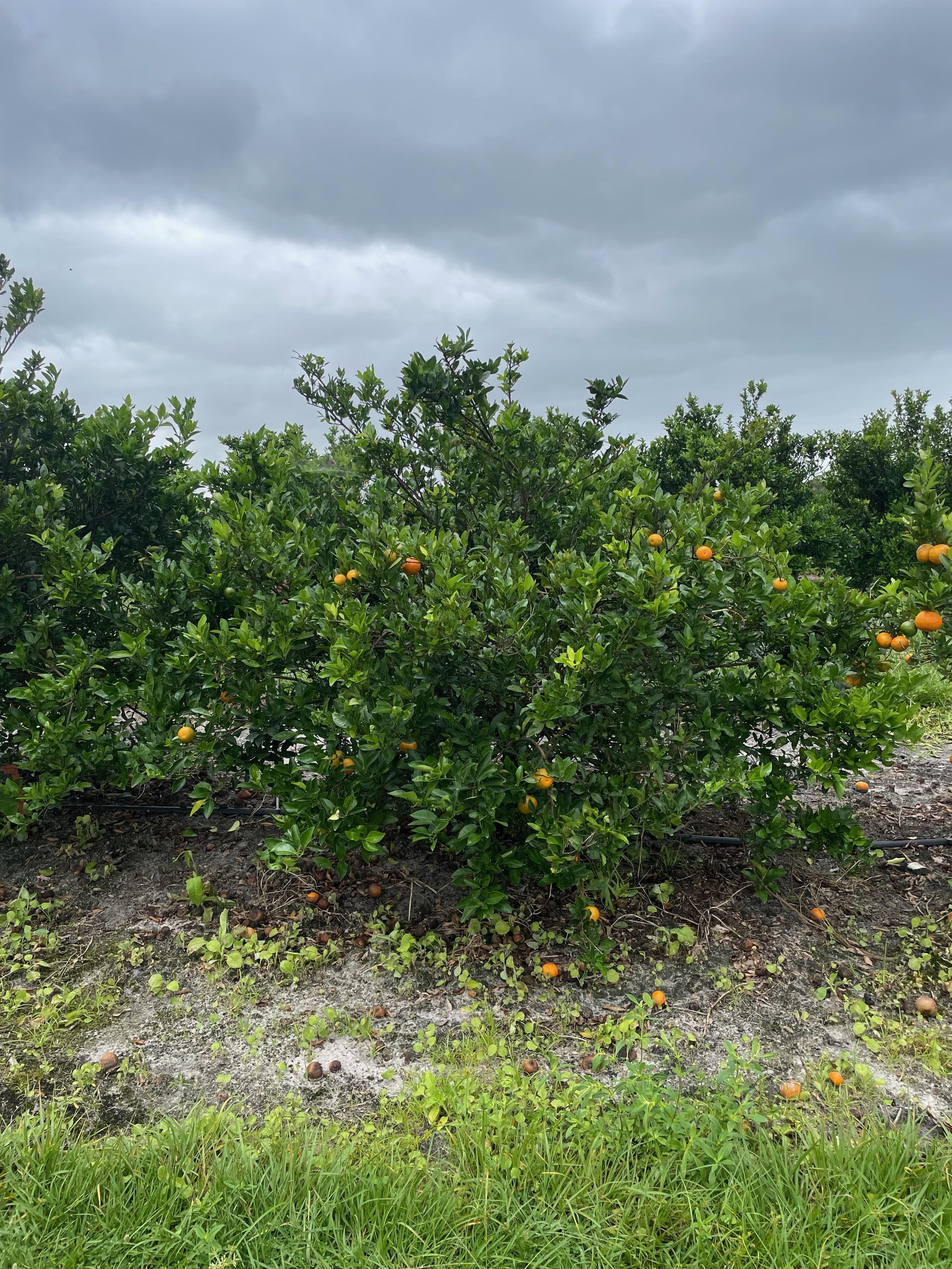fruit_on_ground: (913, 607, 944, 635), (925, 540, 952, 568), (530, 766, 557, 792), (912, 541, 938, 566), (324, 748, 349, 772), (515, 793, 540, 816), (399, 554, 424, 577), (174, 723, 198, 745), (769, 573, 791, 594), (581, 903, 602, 924), (874, 629, 895, 650), (889, 633, 910, 654), (337, 756, 359, 776), (841, 669, 863, 689), (397, 736, 420, 755), (693, 544, 715, 563), (380, 547, 401, 566), (899, 619, 919, 638), (645, 530, 665, 549), (873, 655, 892, 674), (710, 486, 728, 505), (220, 584, 238, 602), (218, 688, 236, 706), (344, 566, 362, 584), (331, 571, 349, 587), (903, 651, 919, 667)
fruit_on_tree: (914, 993, 939, 1017), (778, 1077, 803, 1101), (98, 1049, 121, 1070), (520, 1056, 541, 1076), (540, 960, 559, 981), (807, 904, 828, 922), (305, 1060, 324, 1079), (826, 1068, 845, 1086), (649, 988, 667, 1006), (580, 1053, 597, 1071), (366, 881, 383, 898), (853, 777, 871, 792), (241, 925, 257, 941), (371, 1003, 387, 1019), (327, 1058, 344, 1073), (236, 787, 254, 801), (303, 890, 321, 904), (317, 896, 332, 910)
